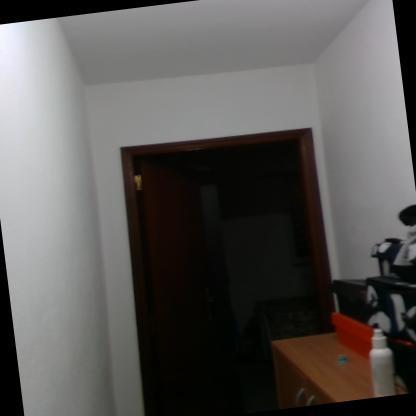open: (86, 94, 373, 415)
